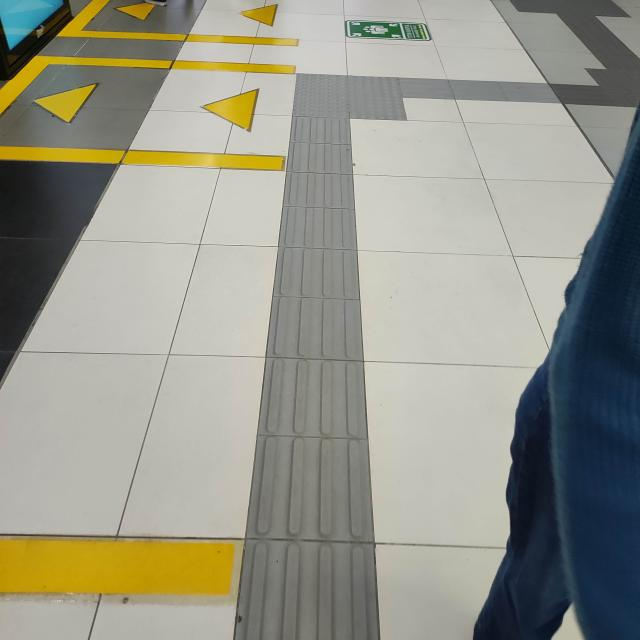kanan: (260, 48, 499, 140)
